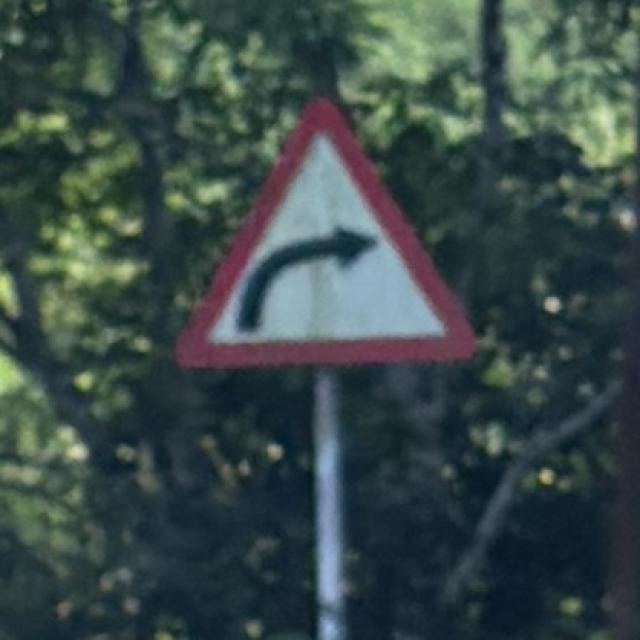RIGHT_TURN_AHEAD: (172, 92, 478, 377)
